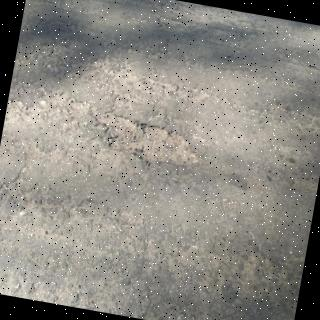pothole: (93, 114, 198, 166)
